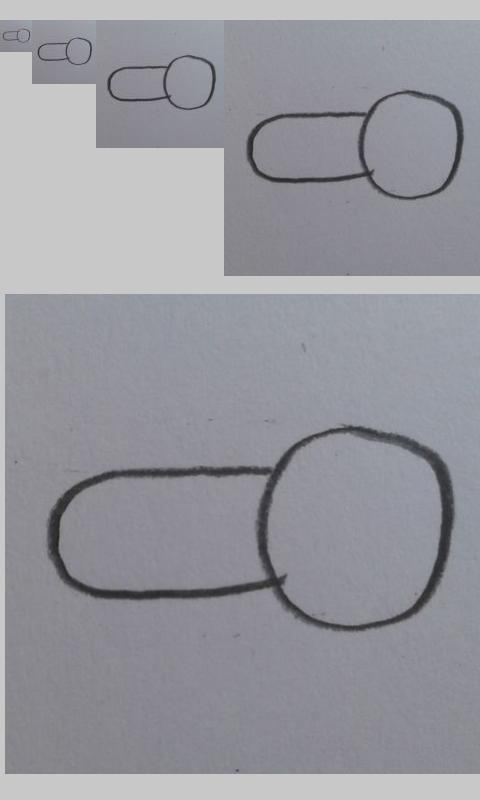switch: (44, 424, 458, 633), (244, 89, 464, 201), (106, 54, 216, 111), (37, 37, 92, 66), (2, 28, 31, 43)
